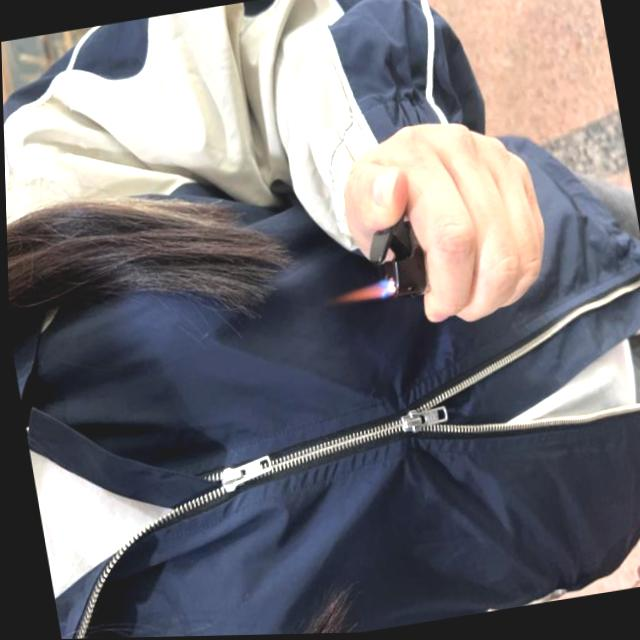helmet: (325, 279, 394, 310)
